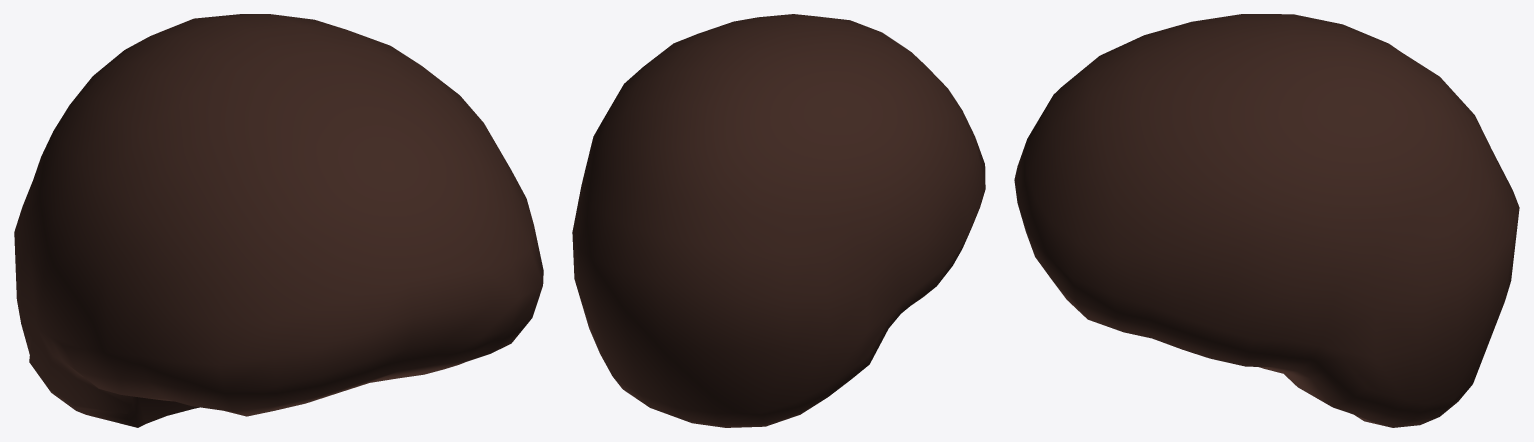
File: Hair07.fbx
3 renders of one model, left to right at view 1: azimuth 30°, elevation 25°; view 2: azimuth 150°, elevation 25°; view 3: azimuth 270°, elevation 25°, orthographic. The views are drawn at different scales.
Parts seen in each view (by area): view 1: Hair07; view 2: Hair07; view 3: Hair07.
Part boxes in pixels (bbox=[...]): Hair07: bbox=[14, 14, 543, 427]; Hair07: bbox=[572, 14, 985, 427]; Hair07: bbox=[1014, 14, 1519, 427].
Size of the model in its own units: 36.51 by 34.28 by 42.99.
